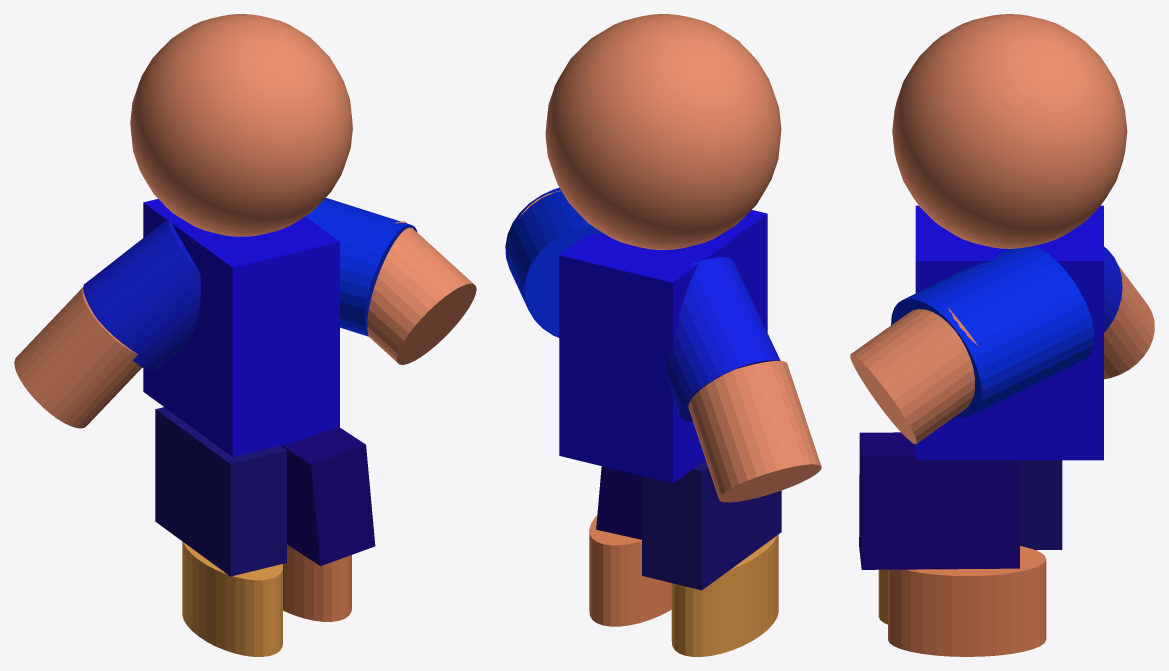
File: Christopher M Character.fbx
The picture shows the model from 3 angles, left to right: view 1: azimuth 30°, elevation 25°; view 2: azimuth 150°, elevation 25°; view 3: azimuth 270°, elevation 25°; orthographic projection. The views are drawn at different scales.
Visible parts, largest first — view 1: Sphere, Cube, Cube.001, Cylinder.001, Cube.002, Cylinder, Cylinder.003, Cylinder.004, Cylinder.002, Cylinder.006; view 2: Sphere, Cube, Cylinder, Cube.001, Cylinder.001, Cylinder.004, Cylinder.002, Cylinder.006, Cube.002; view 3: Sphere, Cube, Cube.002, Cylinder.002, Cylinder.006, Cylinder.003, Cube.001, Cylinder, Cylinder.001, Cylinder.004.
Boxes of the visible parts, x1,y1,x2,y2 form: Sphere: (130,14,352,236); Cube: (143,199,339,456); Cube.001: (155,407,286,576); Cylinder.001: (83,217,200,371); Cube.002: (281,427,375,566); Cylinder: (14,287,141,428); Cylinder.003: (367,221,476,364); Cylinder.004: (182,541,282,656); Cylinder.002: (305,198,417,336); Cylinder.006: (282,544,351,621); Sphere: (545,14,781,249); Cube: (559,210,767,483); Cylinder: (688,361,821,502); Cube.001: (642,460,781,590); Cylinder.001: (666,257,780,421); Cylinder.004: (671,534,778,656); Cylinder.002: (505,187,604,337); Cylinder.006: (589,515,671,626); Cube.002: (596,466,641,539); Sphere: (892,14,1127,248); Cube: (915,205,1103,460); Cube.002: (859,432,1020,569); Cylinder.002: (891,246,1094,417); Cylinder.006: (888,546,1046,656); Cylinder.003: (850,308,978,444); Cube.001: (1020,460,1062,549); Cylinder: (1104,266,1154,379); Cylinder.001: (1104,246,1122,332); Cylinder.004: (878,550,1036,624).
Bounding box in the file's own units: 558 × 848 × 385.
